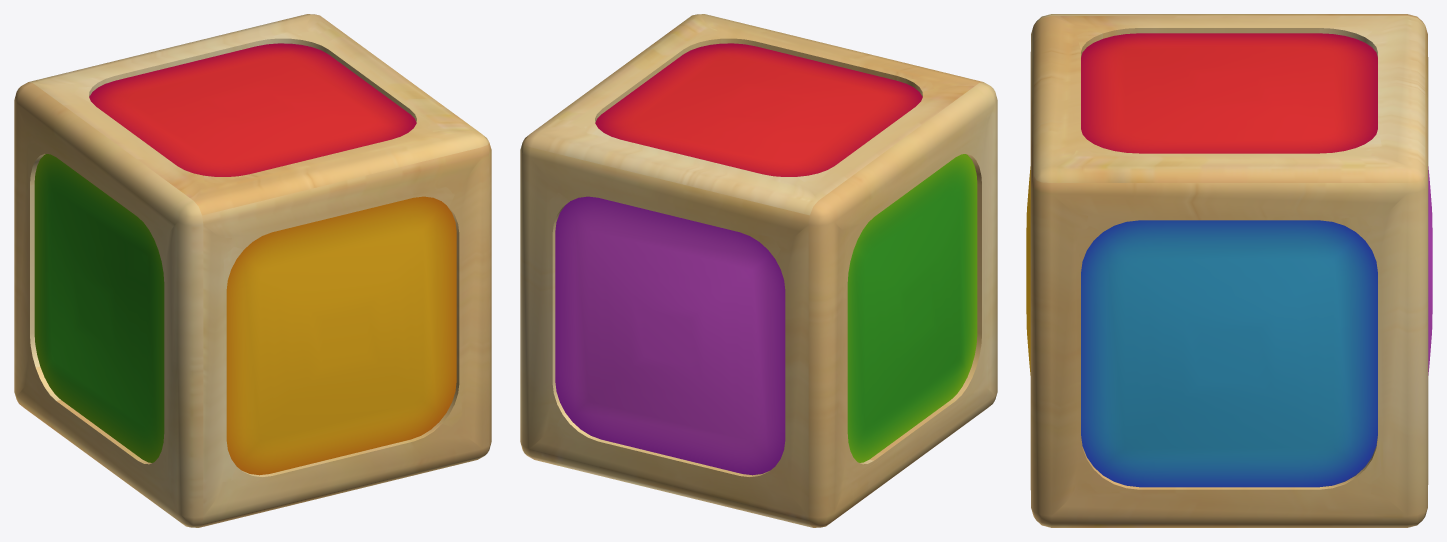
Rendered from dice.glb.
3 views of the same model, side by side, from view 1: azimuth 30°, elevation 25°; view 2: azimuth 150°, elevation 25°; view 3: azimuth 270°, elevation 25° (orthographic). The views are drawn at different scales.
Visible parts, largest first — view 1: Cube; view 2: Cube; view 3: Cube.
Boxes of the visible parts, left/top/right/bottom form: Cube: left=14, top=14, right=491, bottom=527; Cube: left=520, top=14, right=997, bottom=527; Cube: left=1026, top=14, right=1432, bottom=527.
Bounding box in the file's own units: 0.2048 × 0.2048 × 0.2048.
1 material, 1 textured.
